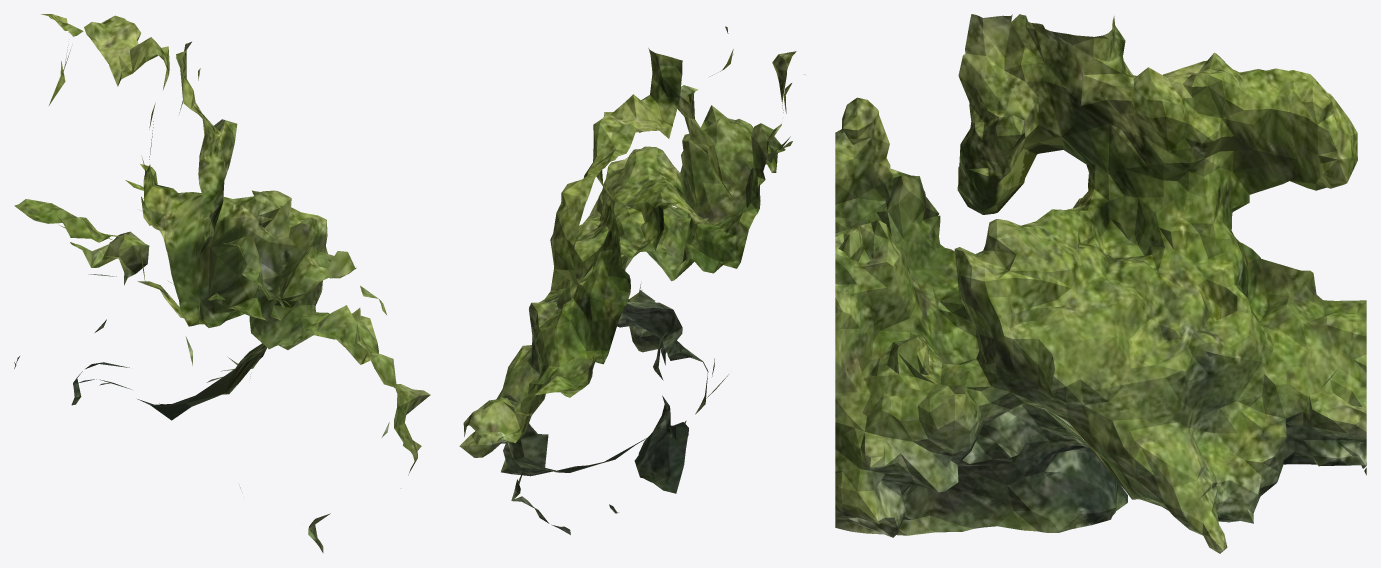
3 views of the same model, side by side, from view 1: azimuth 30°, elevation 25°; view 2: azimuth 150°, elevation 25°; view 3: azimuth 270°, elevation 25° (orthographic). The views are drawn at different scales.
Size of the model in its own units: 2.55 by 5.9 by 5.9.
4 materials, 4 textured.
